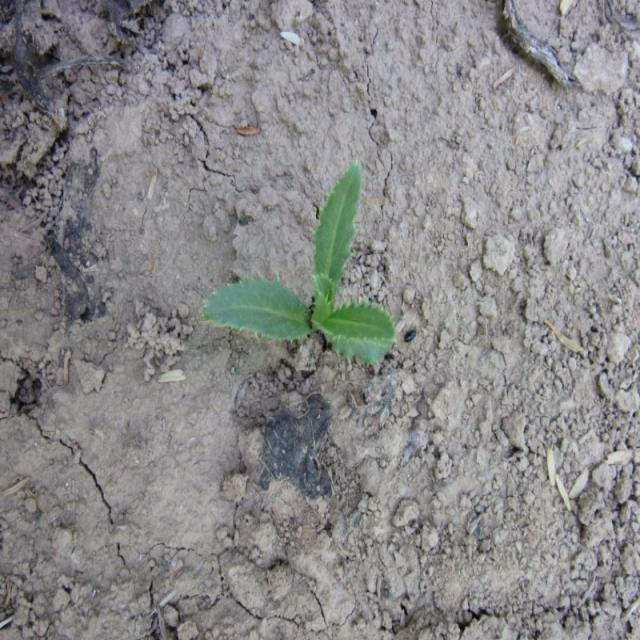field_thistle: (190, 157, 405, 373)
